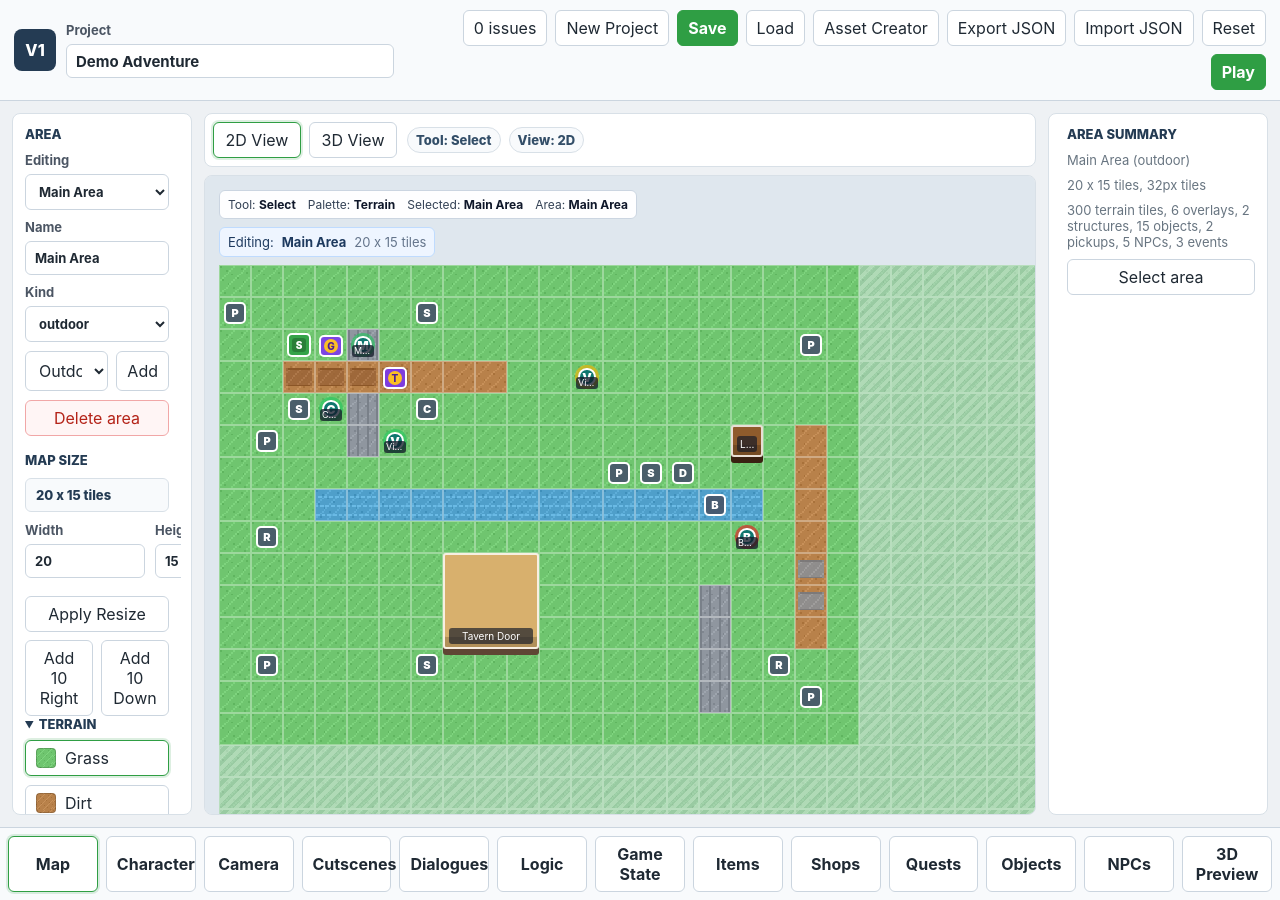
Test: editor smoke tests › renders App and switches to the Logic tab
Expected: the button "Logic" is shown, [497, 836, 587, 892]
Replace the text in the field showing "Demo Adventure" with "Edited Adventure": x=230, y=61 [66, 44, 394, 78]
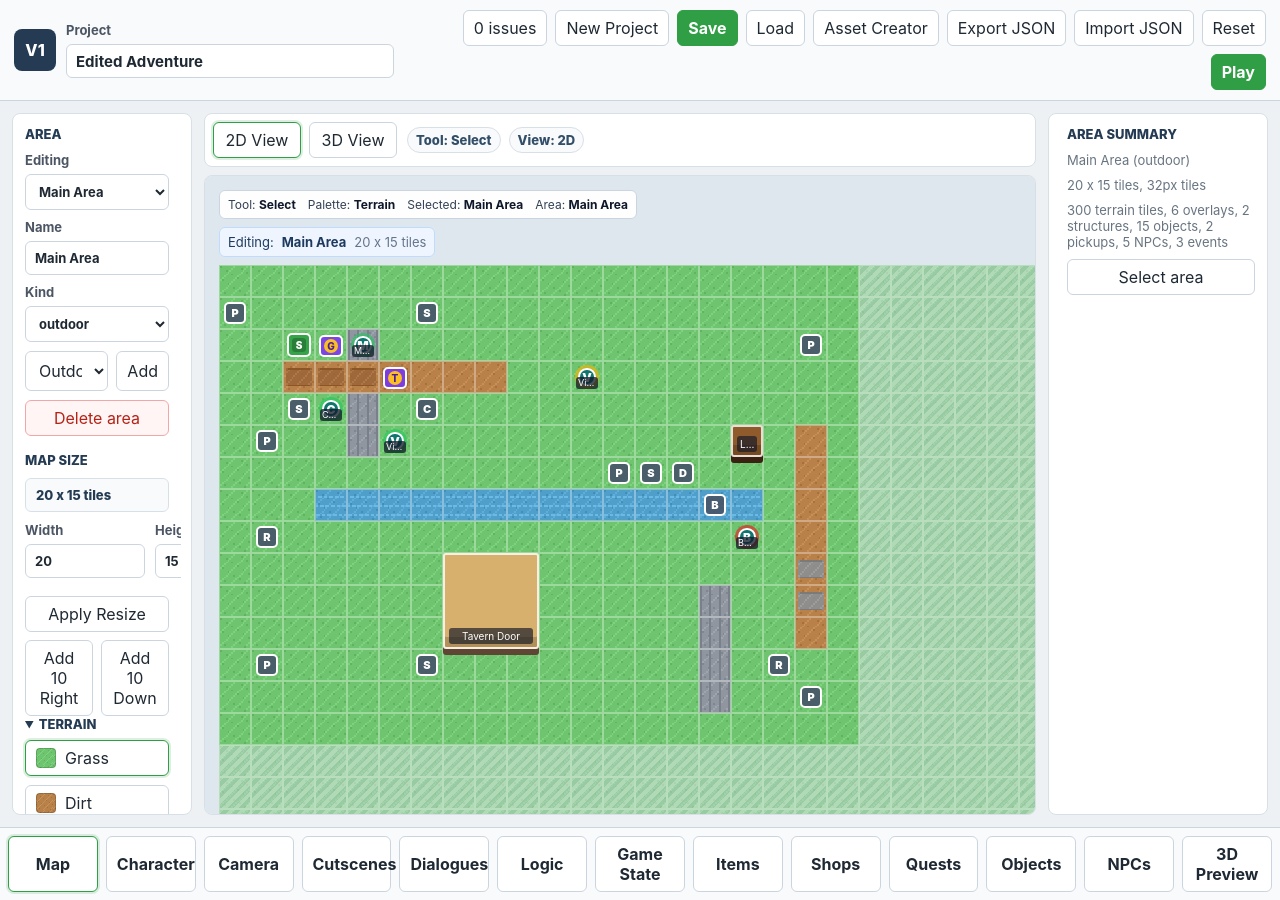
Click the button "Logic": x=542, y=864 [497, 836, 587, 892]
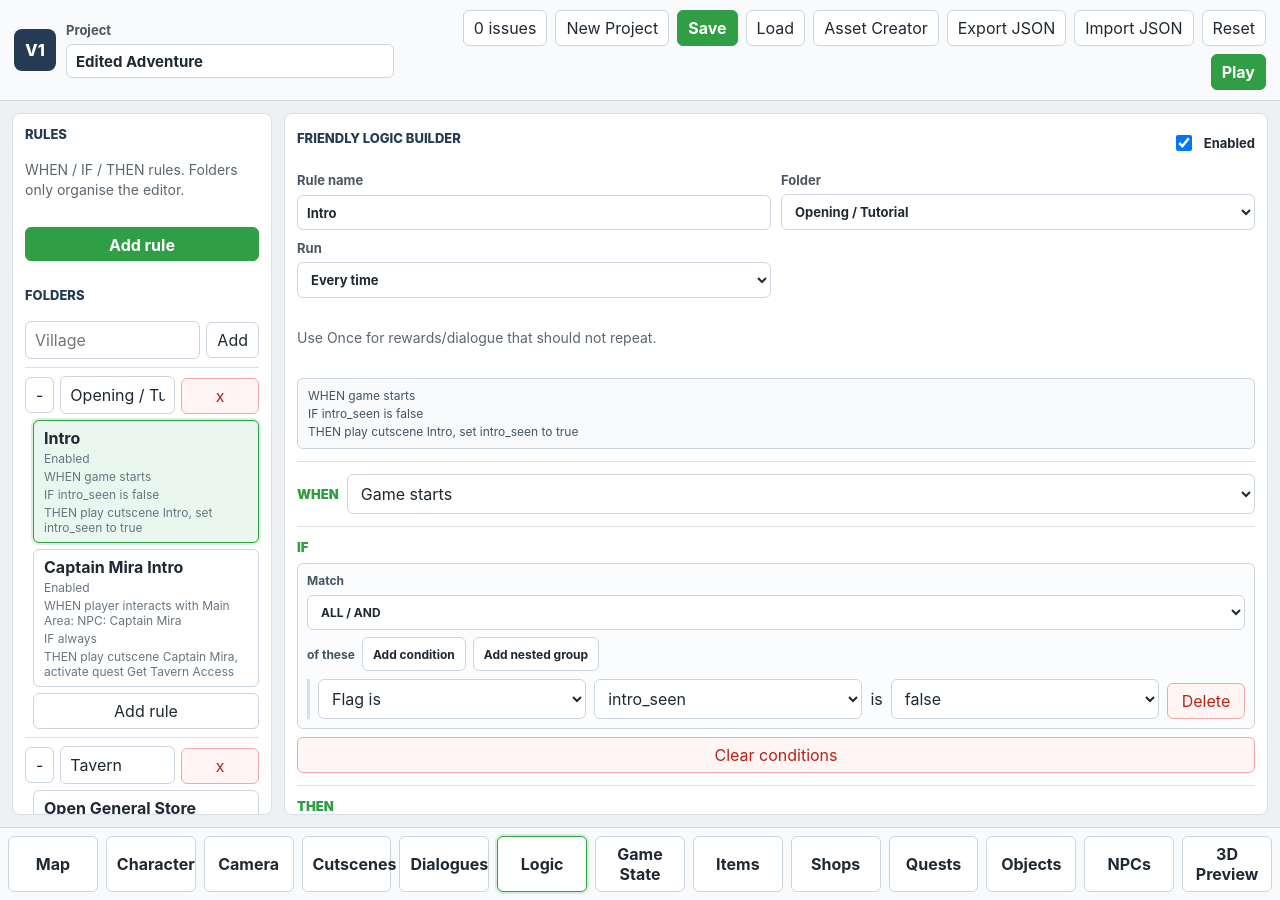
Result: the text "Friendly Logic Builder" is shown at [297, 130, 461, 146]
